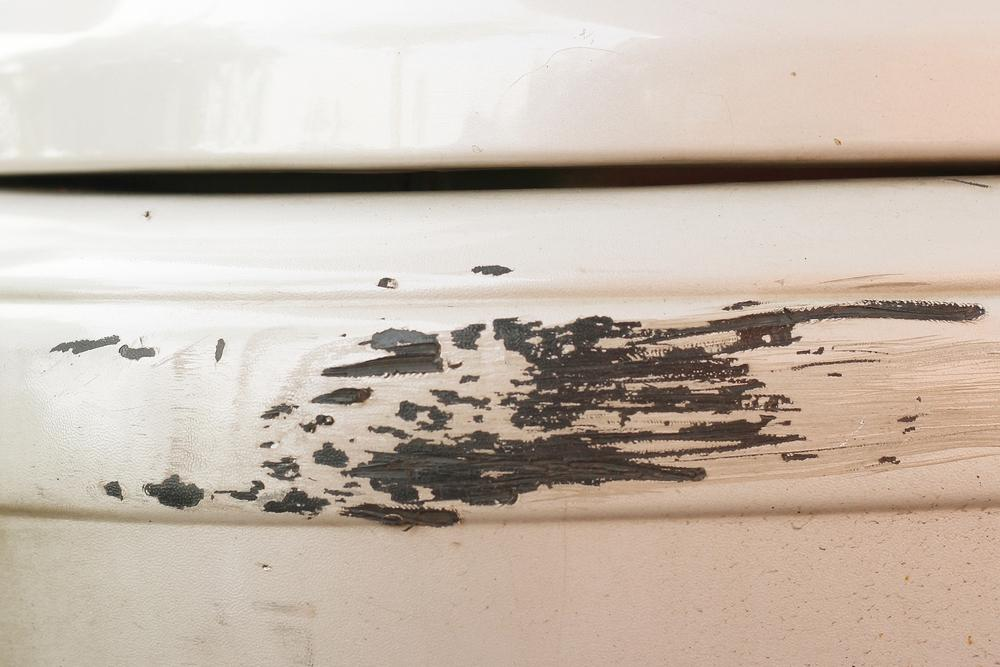scratch: (21, 257, 1000, 530)
